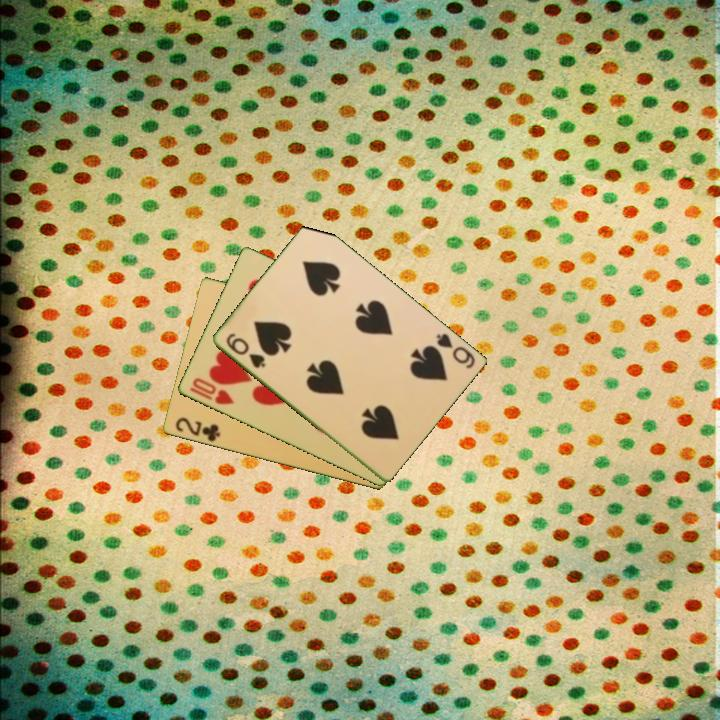10h: (186, 374, 237, 408)
2c: (171, 414, 223, 445)
6s: (222, 329, 268, 371), (432, 330, 478, 372)
